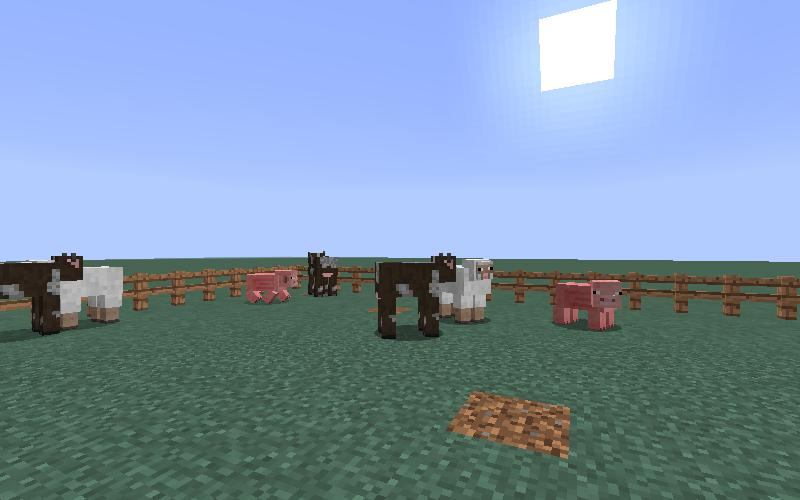cow: (371, 252, 461, 338), (1, 247, 86, 337), (306, 247, 341, 303)
pig: (552, 271, 625, 343), (243, 261, 301, 313)
sheep: (440, 257, 494, 325)
